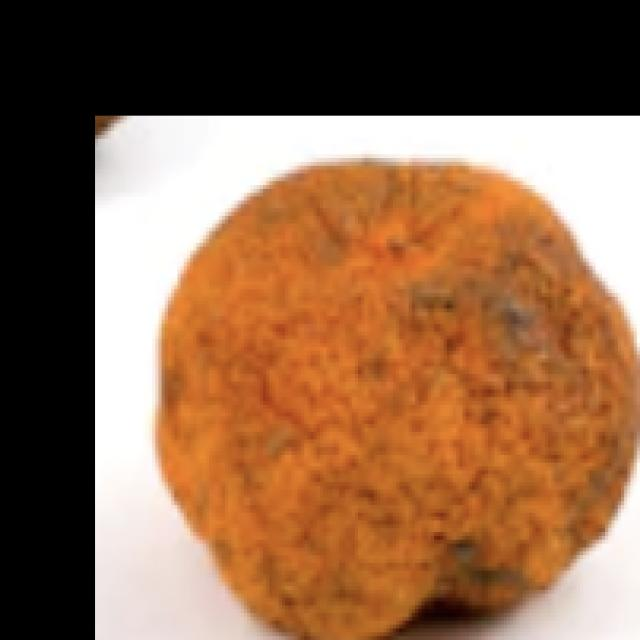sangat_busuk: (151, 155, 640, 640)
